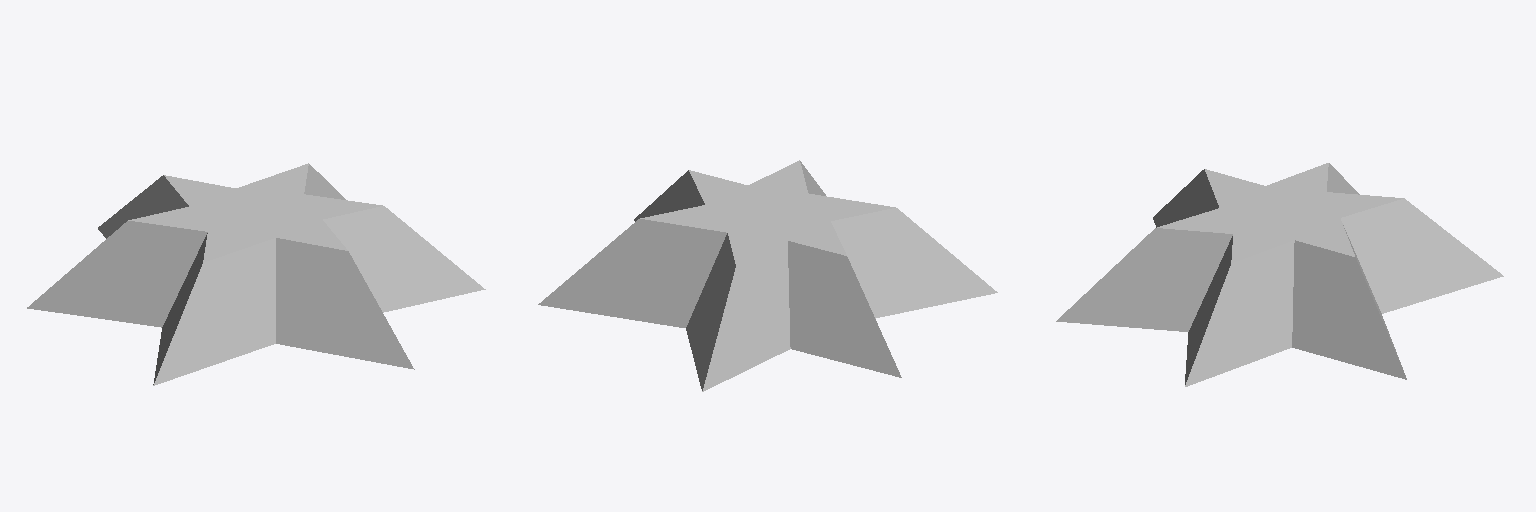
File: ouro.obj
The picture shows the model from 3 angles: view 1: azimuth 30°, elevation 25°; view 2: azimuth 150°, elevation 25°; view 3: azimuth 270°, elevation 25°; orthographic projection.
Parts seen in each view (by area): view 1: Cube; view 2: Cube; view 3: Cube.
Part boxes in pixels (x1,y1,x2,y2): Cube: (27,163,485,385); Cube: (538,160,997,391); Cube: (1056,163,1503,386).
Bounding box in the file's own units: 0.0921 × 0.0208 × 0.0984.